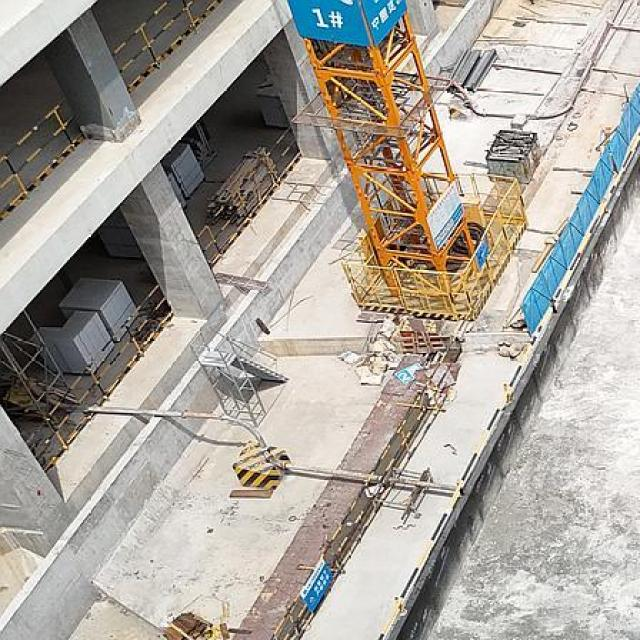edge_guardrail: (374, 130, 640, 640), (25, 284, 174, 451), (195, 127, 302, 263), (0, 99, 83, 217), (111, 0, 195, 74)
